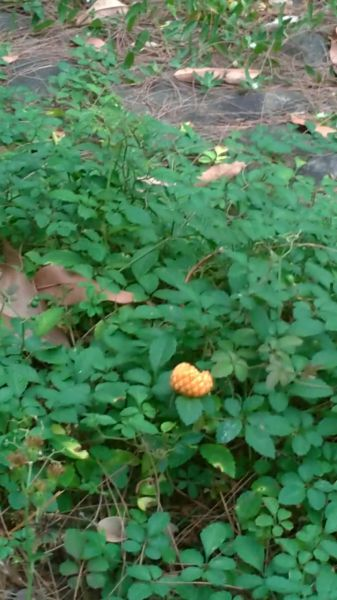eggs: (168, 359, 219, 401)
